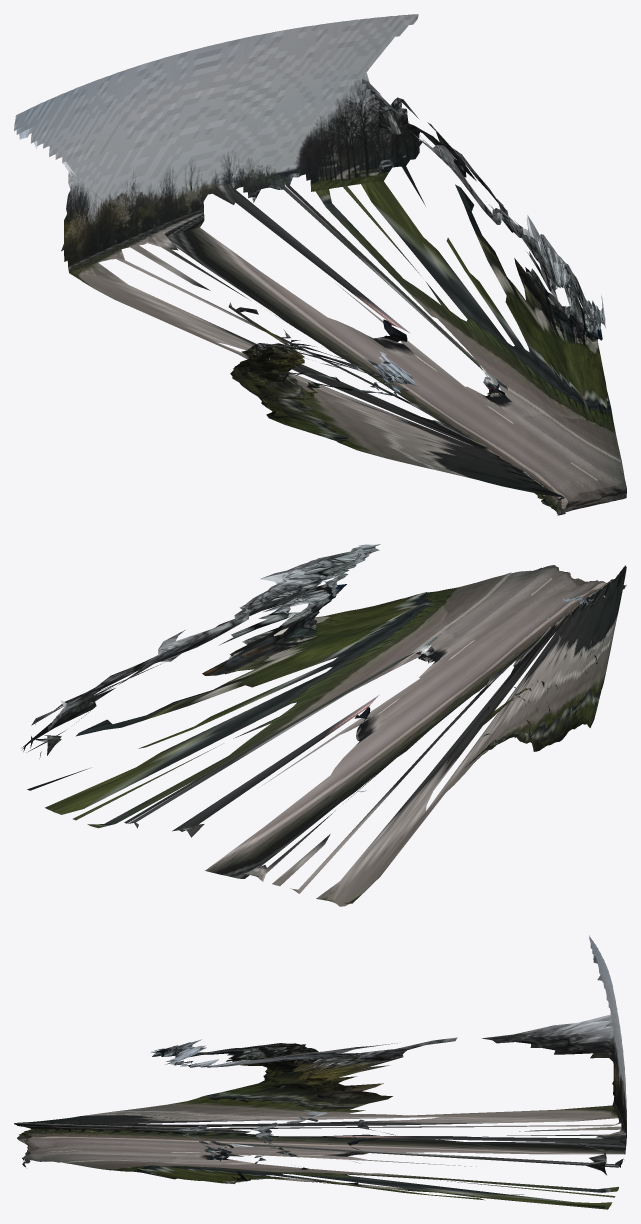
3 views of the same model, one above another, from view 1: azimuth 30°, elevation 25°; view 2: azimuth 150°, elevation 25°; view 3: azimuth 270°, elevation 25° (orthographic). The views are drawn at different scales.
Parts seen in each view (by area): view 1: defaultobject; view 2: defaultobject; view 3: defaultobject.
Part boxes in pixels (bbox=[...]): defaultobject: bbox=[14, 14, 626, 515]; defaultobject: bbox=[21, 544, 626, 906]; defaultobject: bbox=[14, 935, 626, 1209].
Bounding box in the file's own units: 27.4 × 12.41 × 44.97.
1 material, 1 textured.
